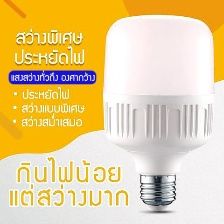light_bulb: (99, 11, 220, 216)
